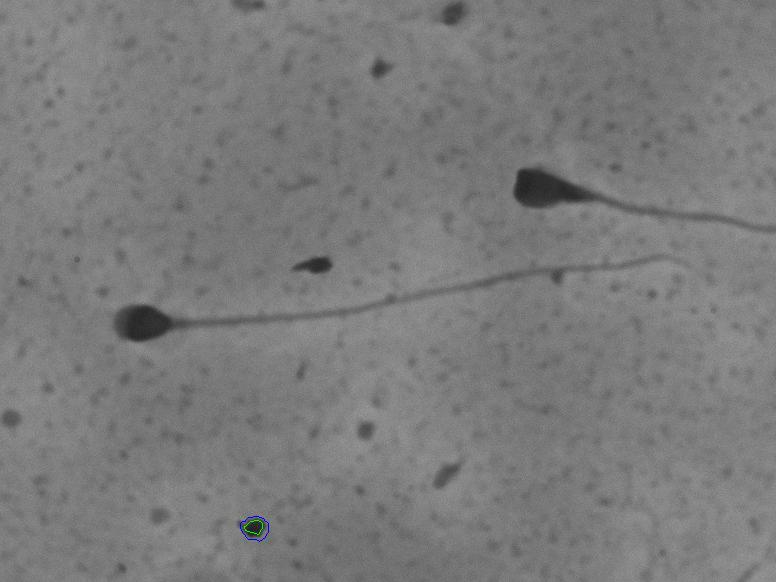Abnormal: (504, 112, 752, 270)
Normal: (72, 239, 725, 388)
